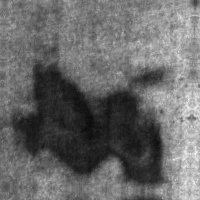patches: (13, 61, 104, 176), (95, 89, 166, 184)
